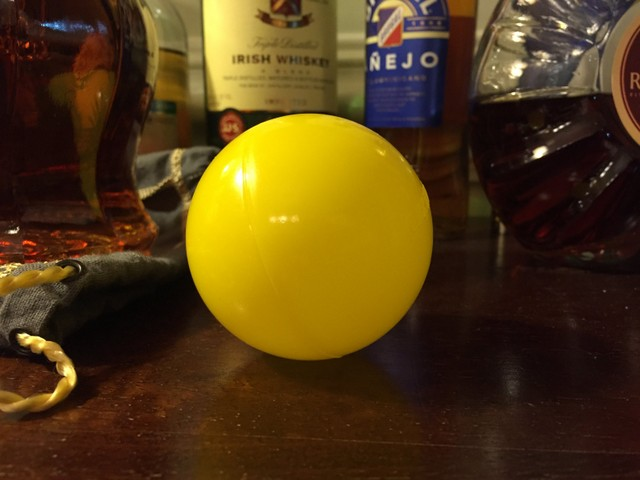Ball: (185, 112, 431, 367)
